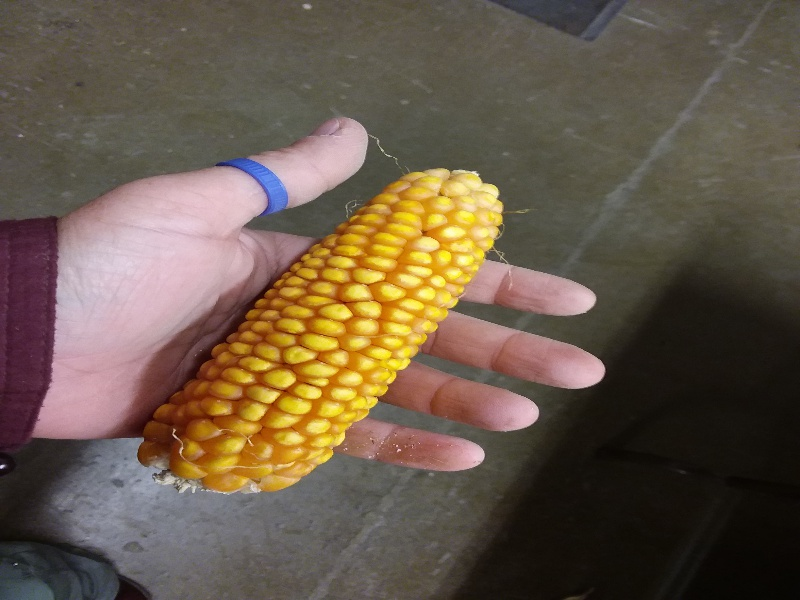band: (214, 156, 294, 213)
ear: (133, 163, 508, 499)
